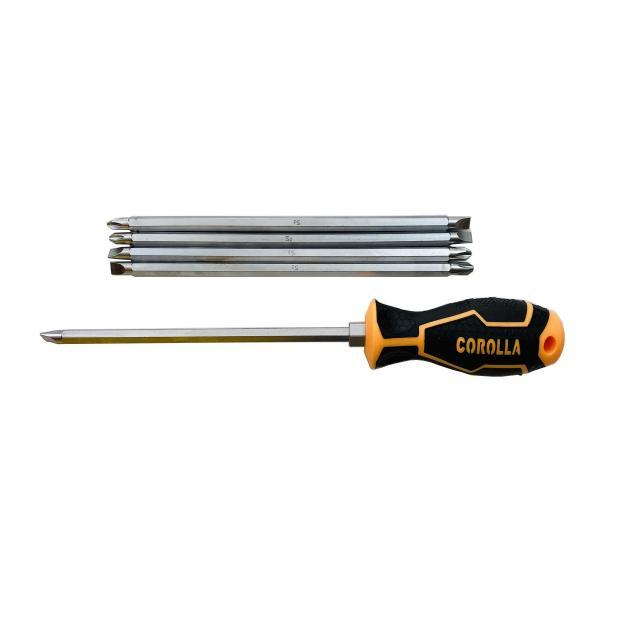screwdriver: (36, 292, 569, 382)
